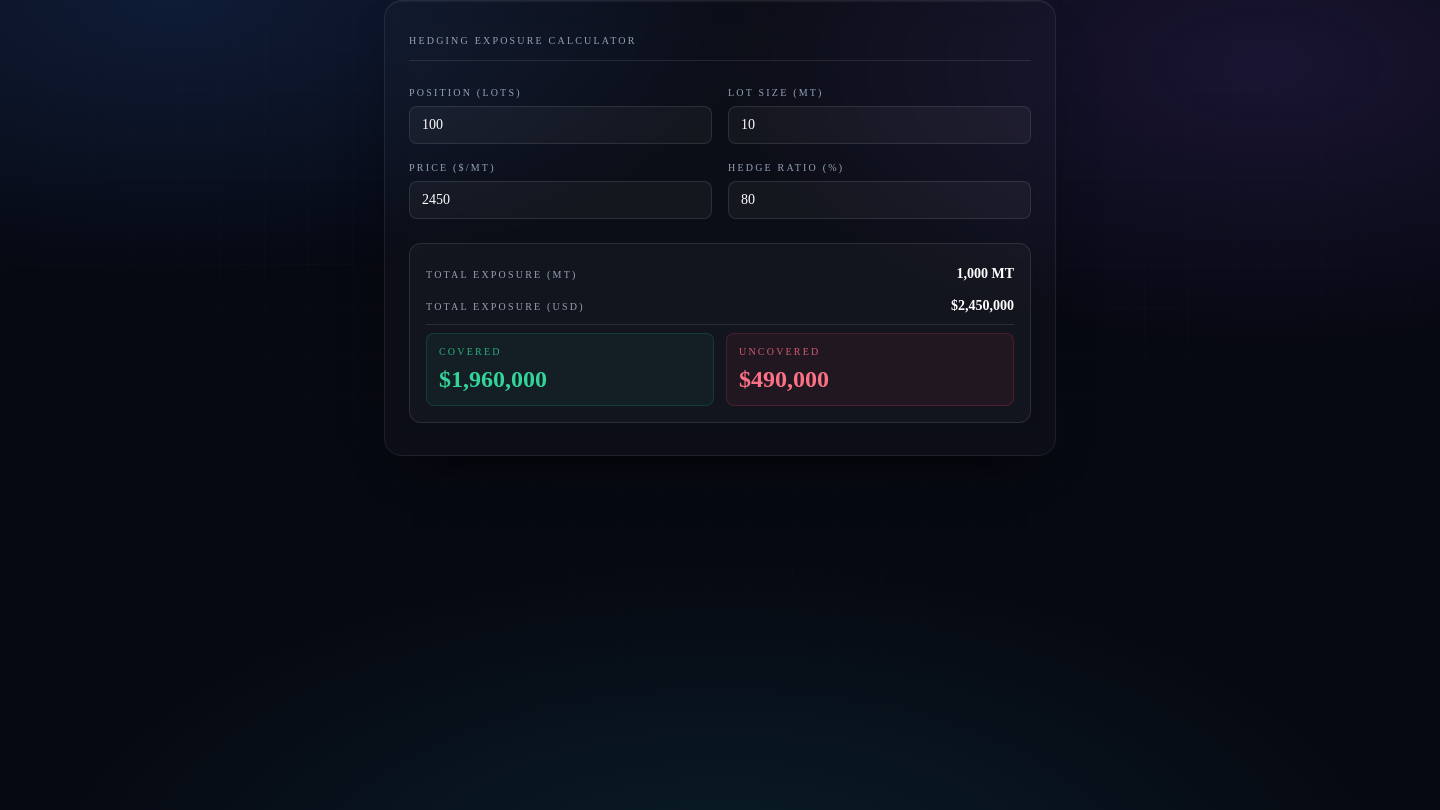
changing lots updates output reactively
Replace the text in the number field labelled "Position (lots)" with "50". click: (560, 125)
box: [409,106,712,144]
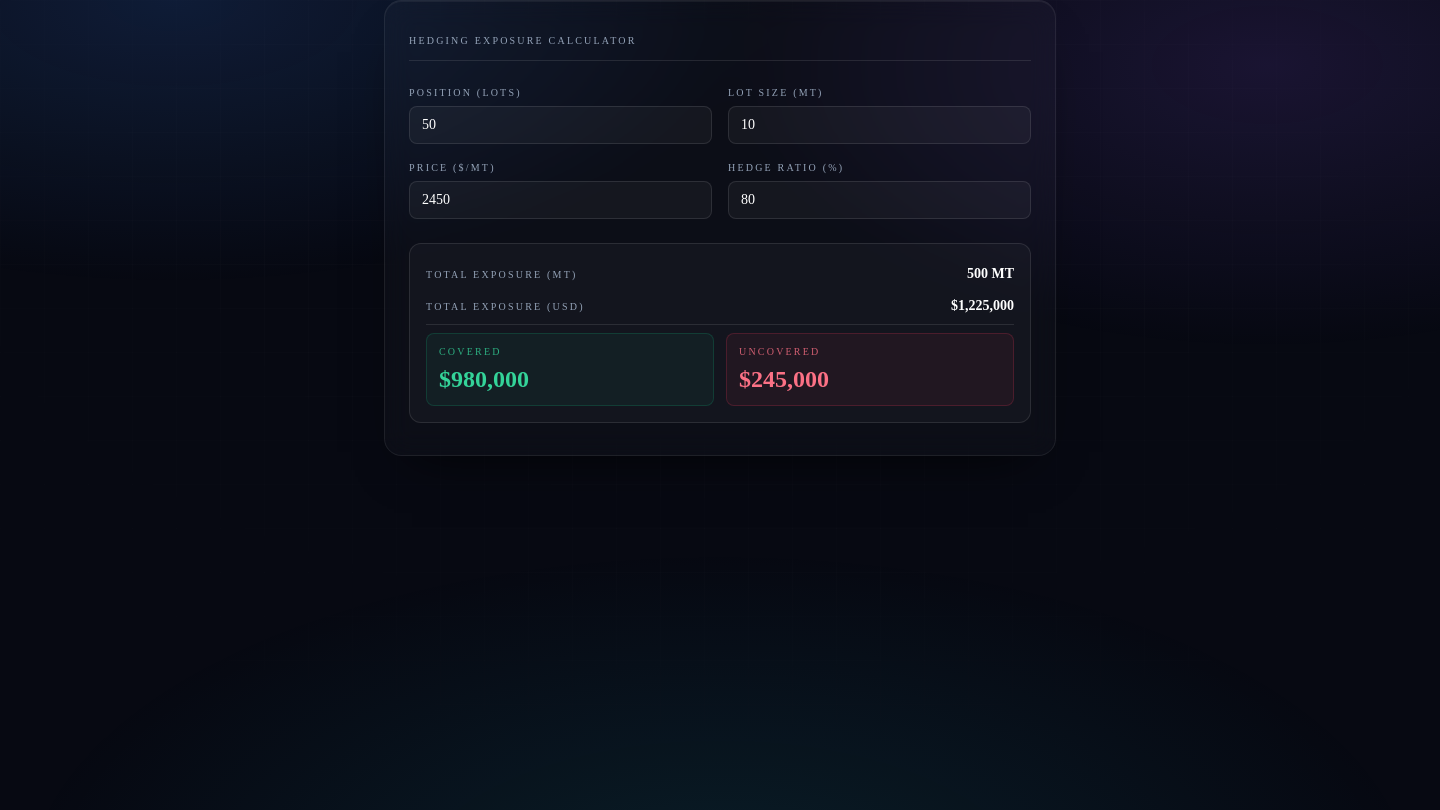
Expected: the text "$980,000" is shown, [439,366,529,392]
